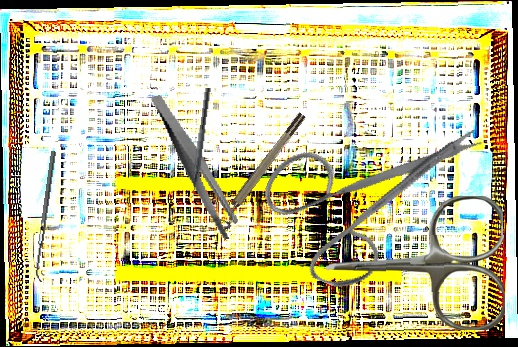Chopper: (182, 86, 212, 204)
Dressing Forceps: (150, 84, 242, 249)
Fixation Ring: (212, 110, 313, 232)
Iris Scissors: (240, 61, 487, 319), (324, 195, 506, 333)
Spatula Surgical: (32, 150, 62, 283)
